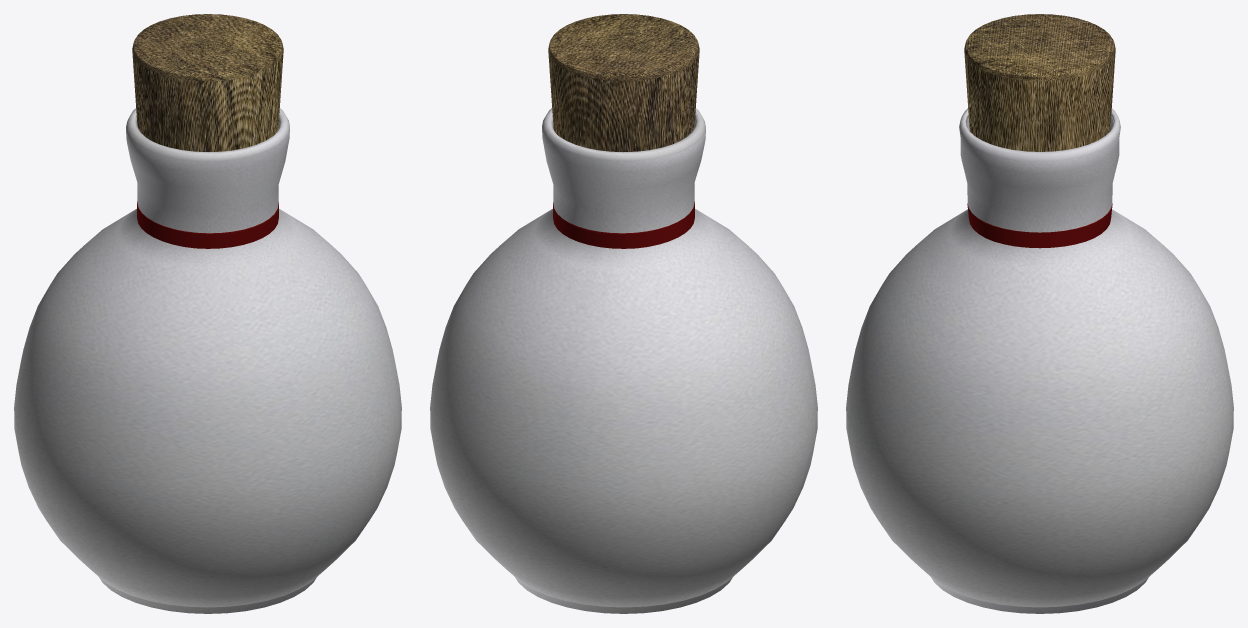
File: revive.glb
3 views of the same model, side by side, from view 1: azimuth 30°, elevation 25°; view 2: azimuth 150°, elevation 25°; view 3: azimuth 270°, elevation 25° (orthographic).
Parts seen in each view (by area): view 1: Potion of Healing; view 2: Potion of Healing; view 3: Potion of Healing.
Boxes of the visible parts, x1,y1,x2,y2 form: Potion of Healing: [14, 14, 401, 613]; Potion of Healing: [430, 14, 817, 613]; Potion of Healing: [846, 14, 1233, 613].
Bounding box in the file's own units: 8.52 × 12.68 × 8.52.
3 materials, 3 textured.
